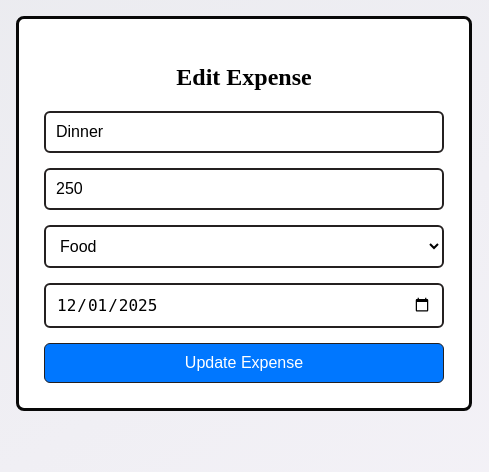
Test: EditExpense Component › shows error if update fails
The width and height of the screenshot is (489, 472).
Expected: the field showing "Dinner" is shown, [44,111,444,153]
Click the button "Update Expense".
click(244, 363)  # box [44,343,444,383]
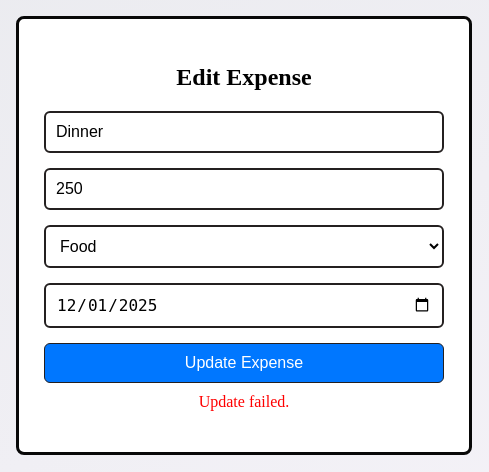
Now the text "Update failed." is shown, box [199,393,289,410]
